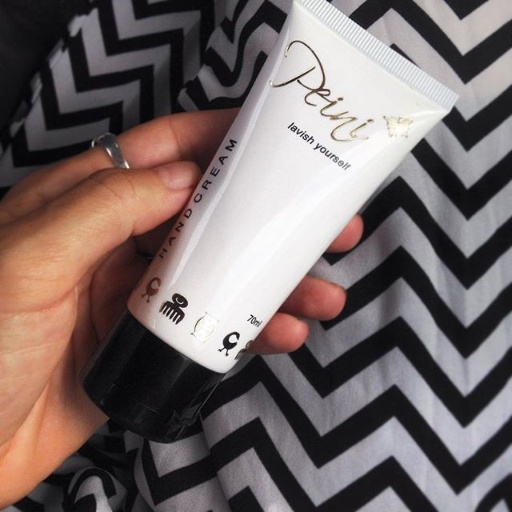hand: (2, 80, 184, 456)
